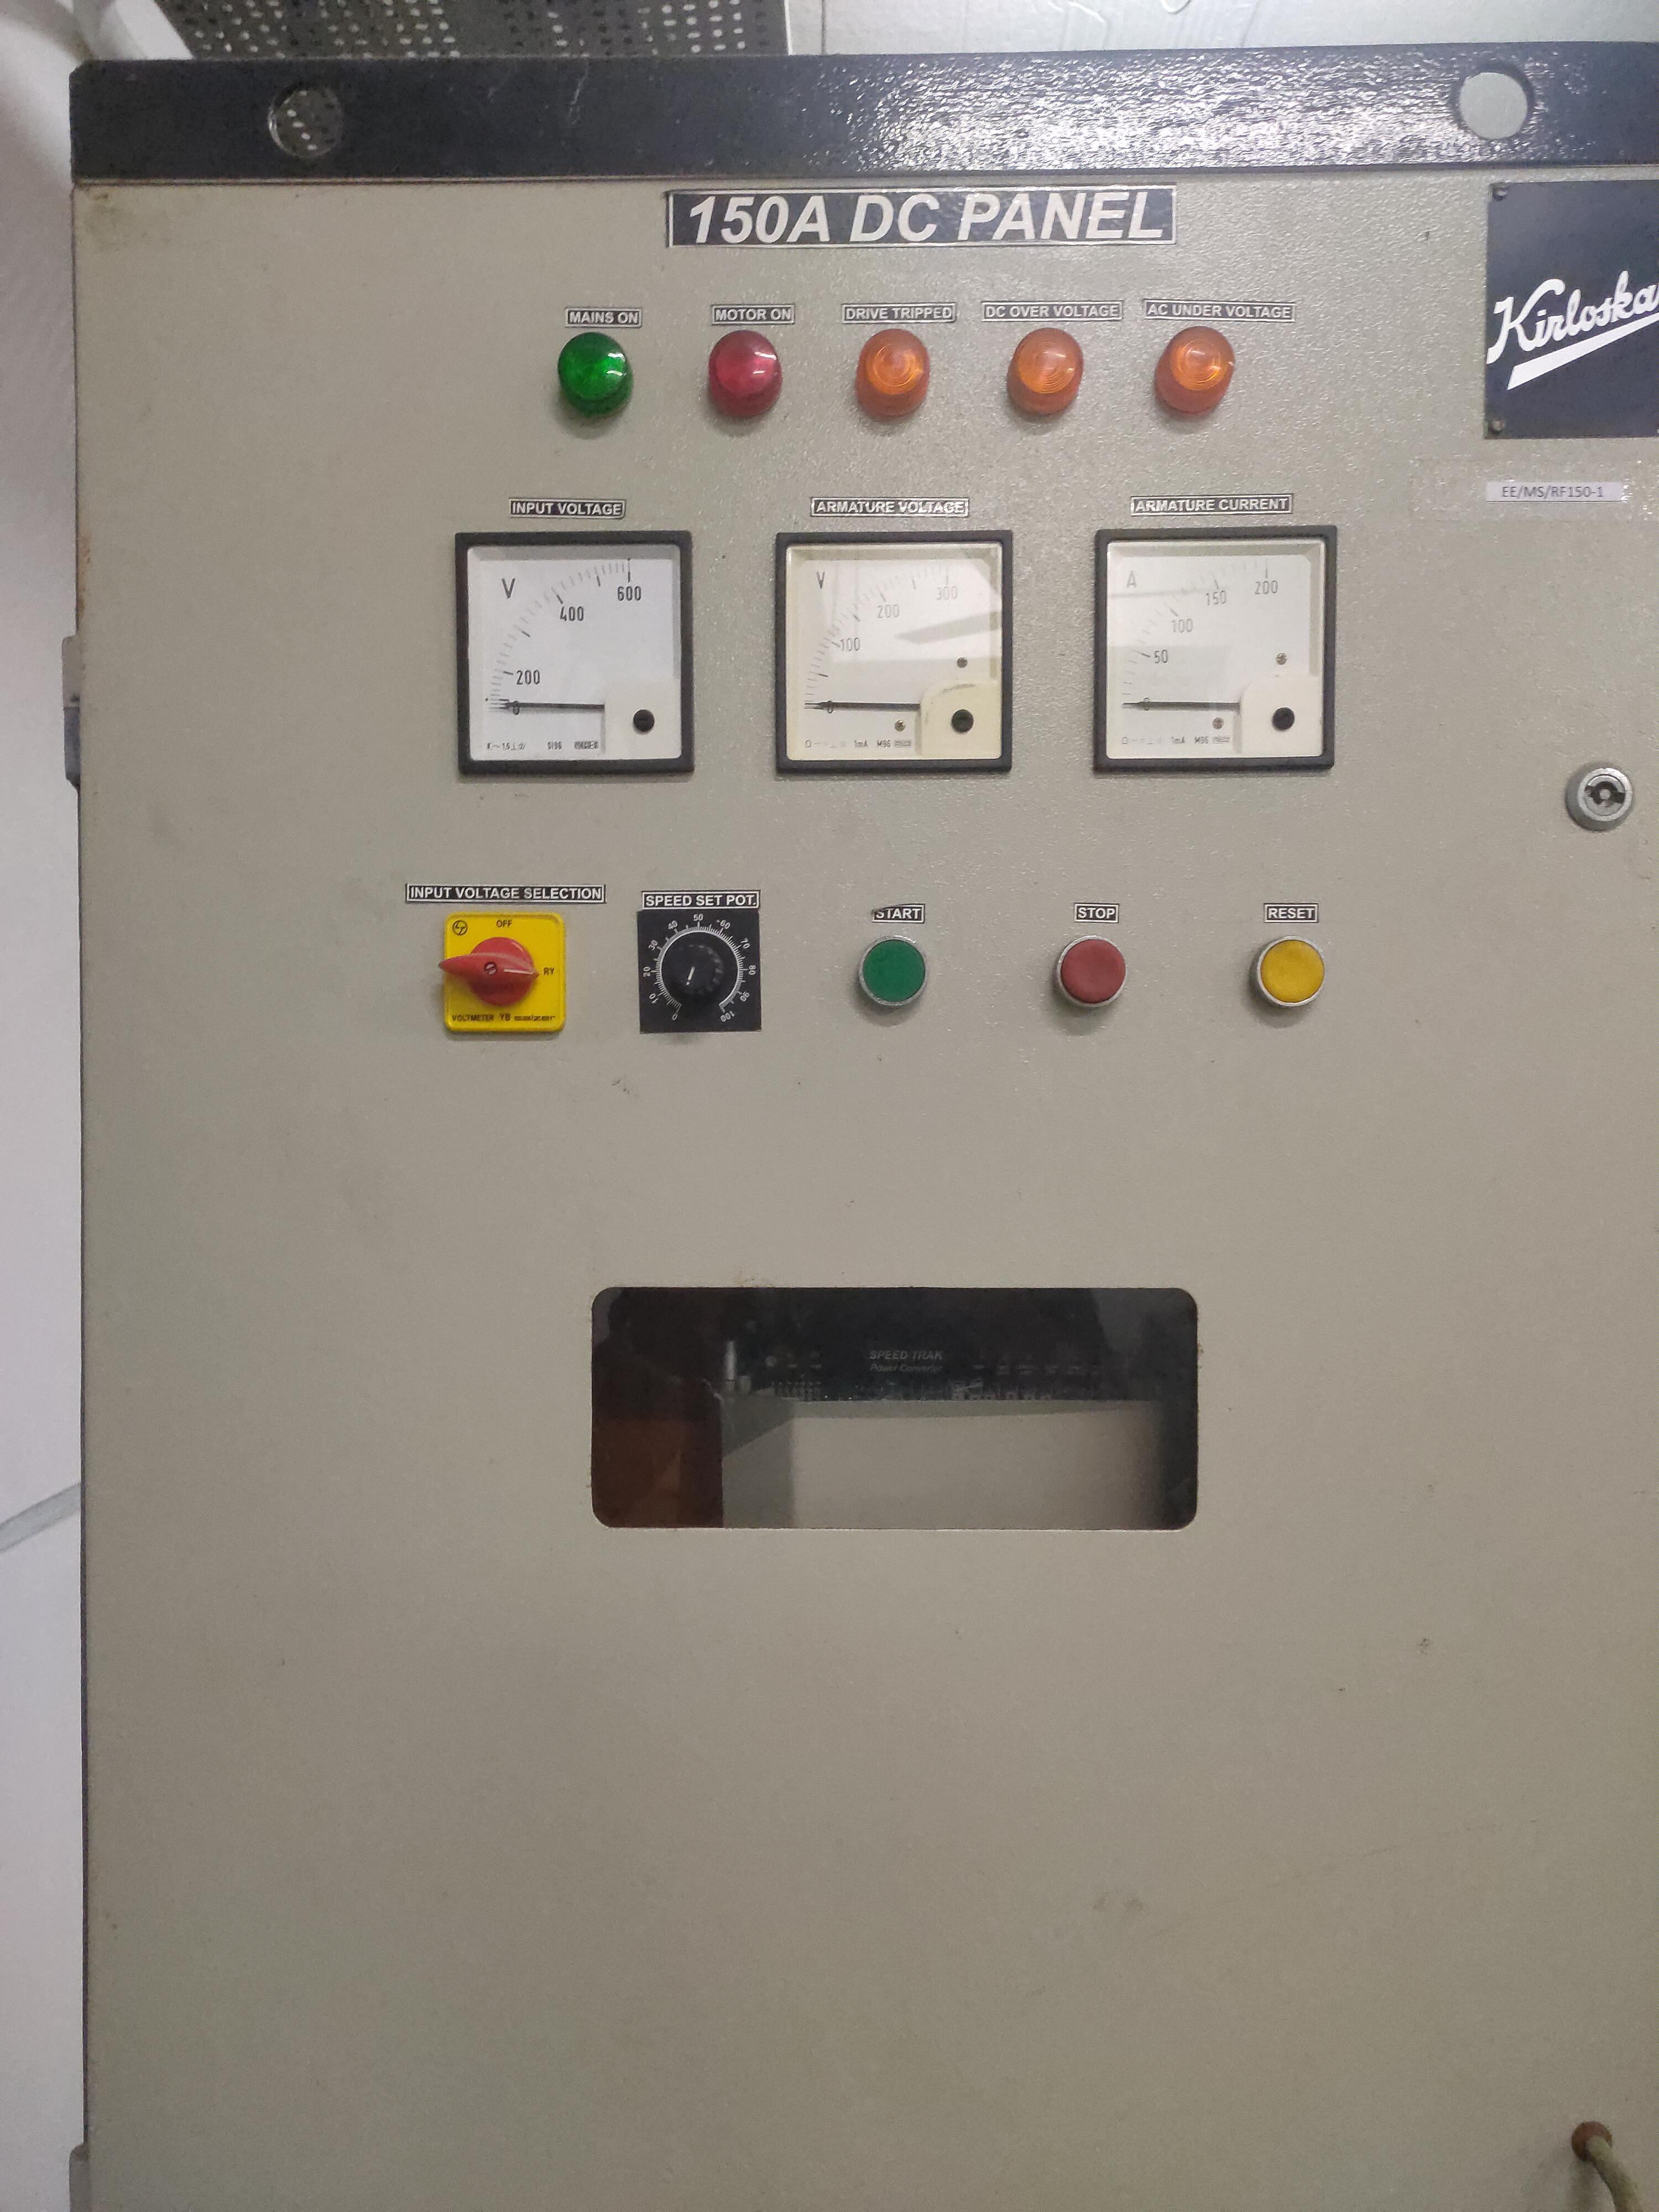Light Indications: (530, 286, 1265, 484)
